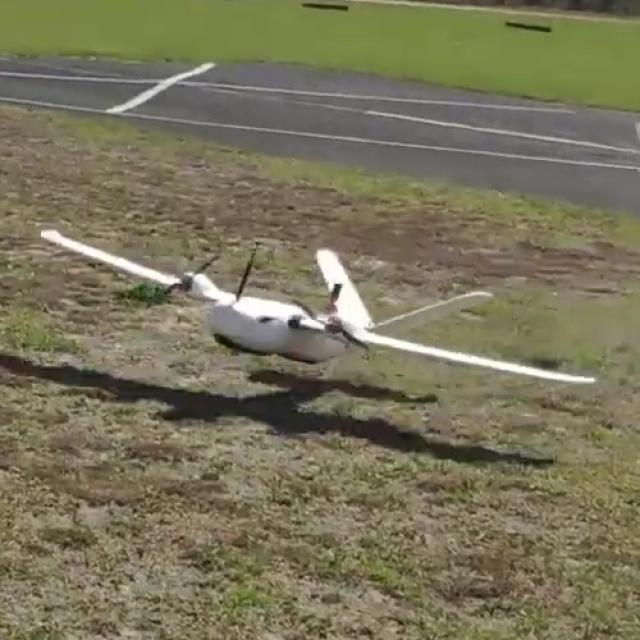iha: (40, 225, 601, 416)
